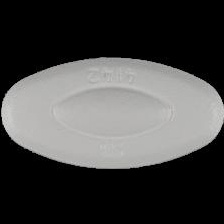0007-4142: (0, 0, 224, 224)
